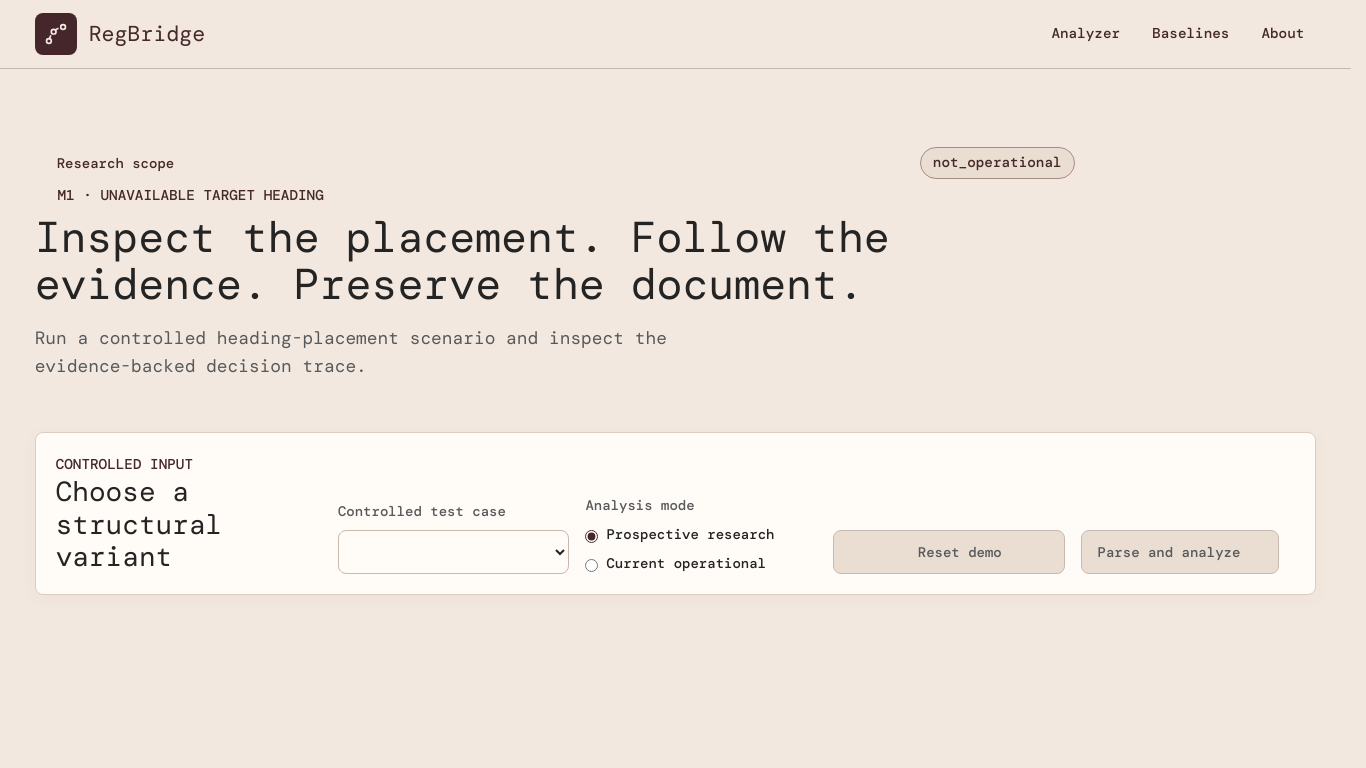
Test: M1 heading case › reports current operational unavailability without prospective evidence
Step 1. Click the radio button labelled "Current operational" → [592, 565], box left=585, top=559, right=598, bottom=572
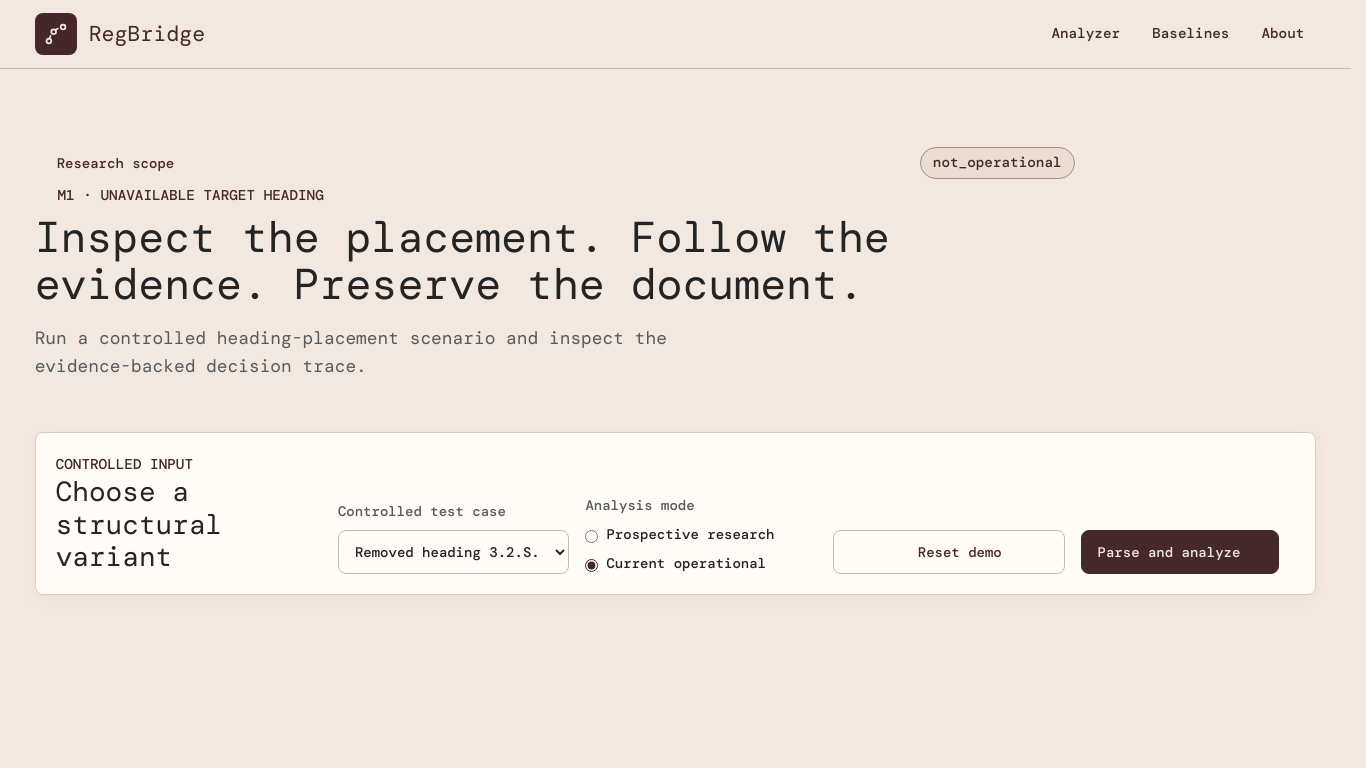
Step 2. Click the button "Parse and analyze" → [1180, 552], box left=1080, top=530, right=1279, bottom=574
(page scrolled)
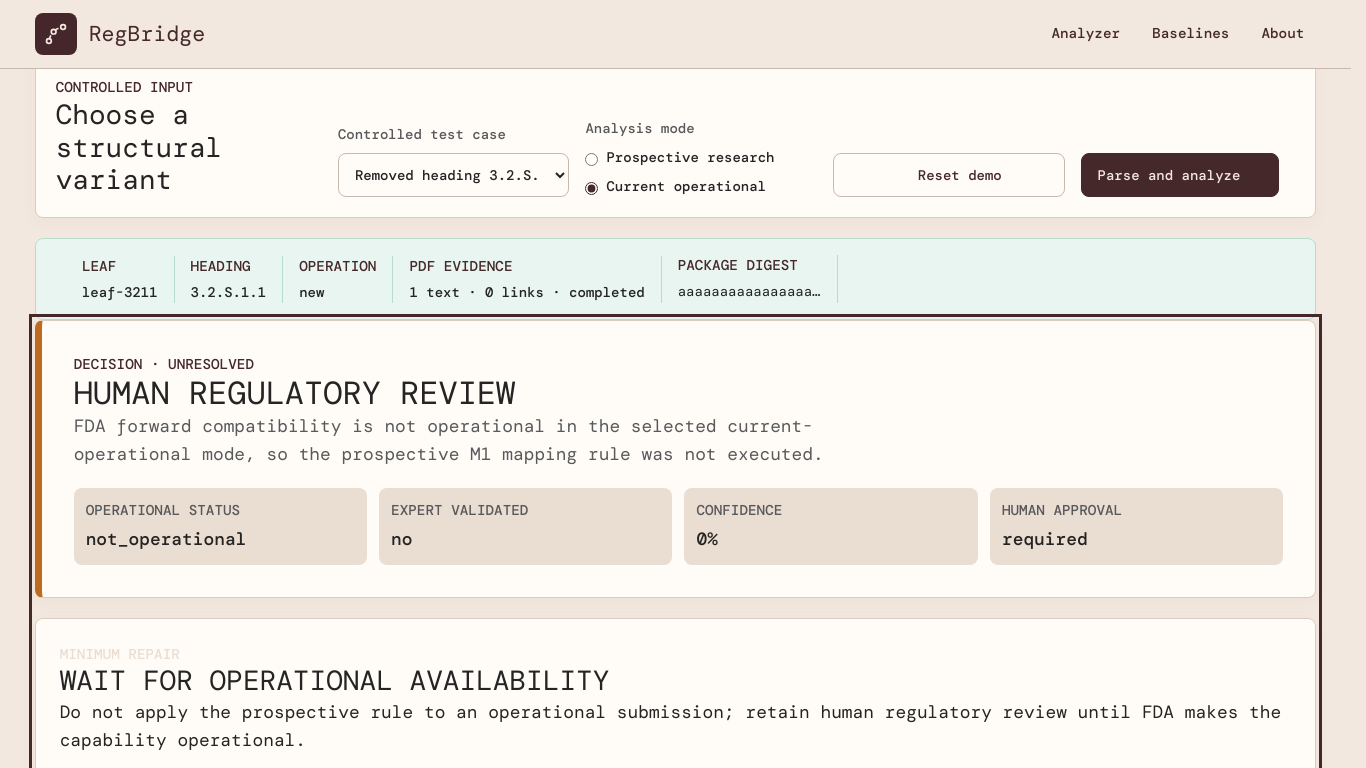
Expected: the heading "HUMAN REGULATORY REVIEW" is shown, left=74, top=372, right=515, bottom=414
Expected: the text "prospective M1 mapping rule was not executed" is shown, left=74, top=414, right=824, bottom=466
